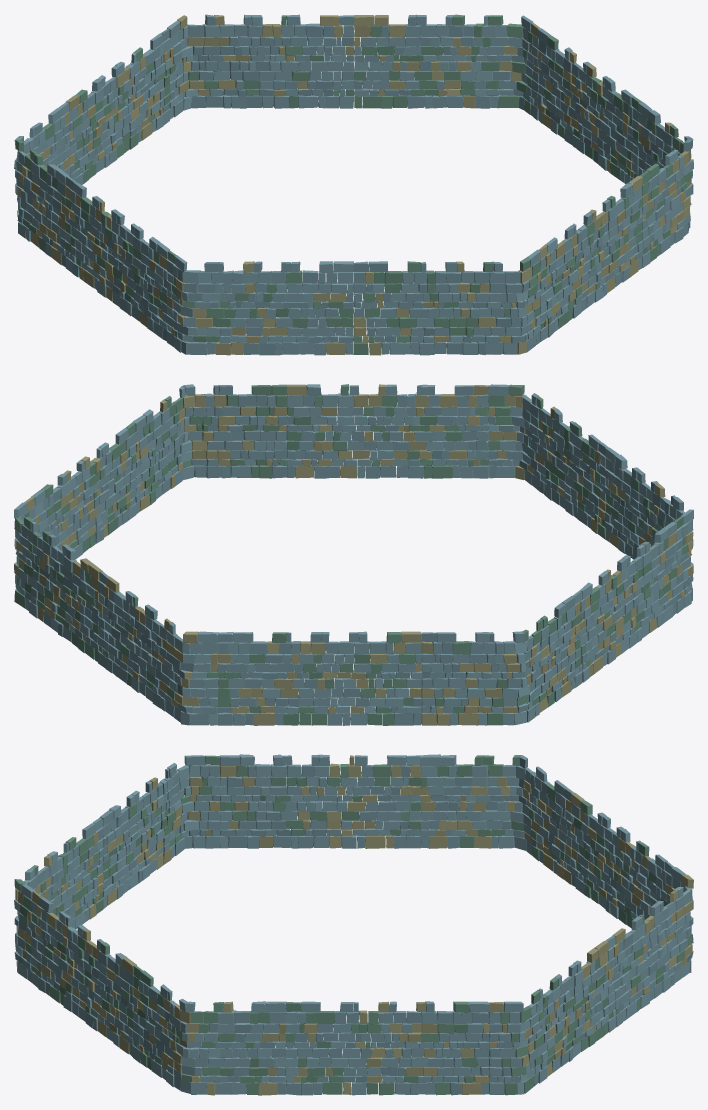
File: OuterHexWall.fbx
3 renders of one model, top to bottom at view 1: azimuth 30°, elevation 25°; view 2: azimuth 150°, elevation 25°; view 3: azimuth 270°, elevation 25°, orthographic.
Visible parts, largest first — view 1: OuterWall; view 2: OuterWall; view 3: OuterWall.
Part boxes in pixels (<box>): OuterWall: <box>14,14,693,355</box>; OuterWall: <box>14,384,693,725</box>; OuterWall: <box>14,754,693,1095</box>.
Bounding box in the file's own units: 7022 × 1212 × 8074.
